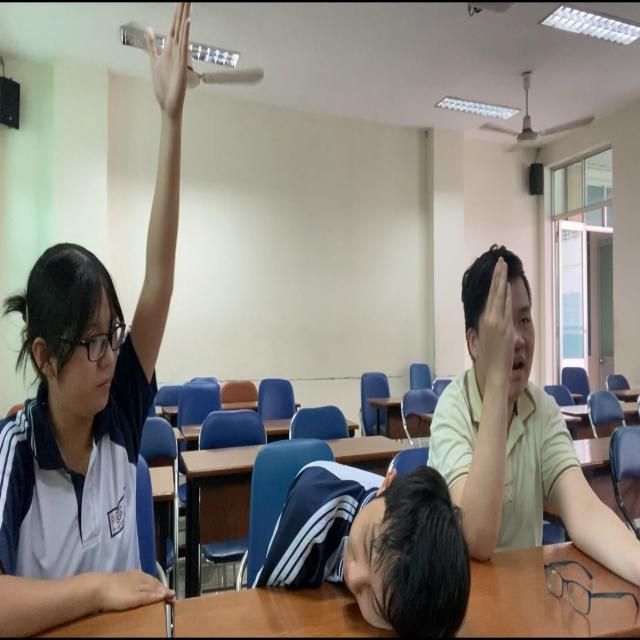raise_hand: (1, 1, 208, 640), (436, 247, 598, 565)
sleep: (247, 443, 474, 640)
